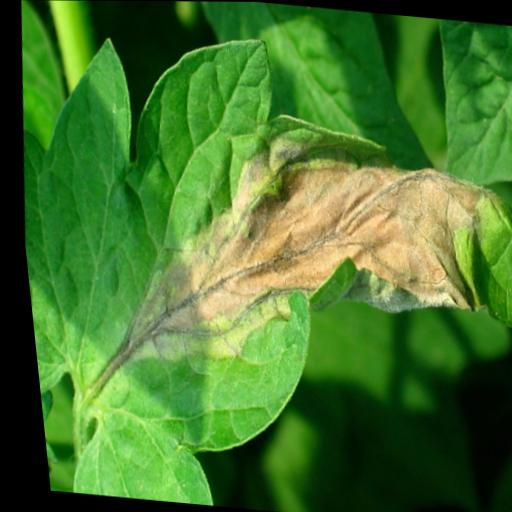Late Blight: (1, 7, 512, 512)
